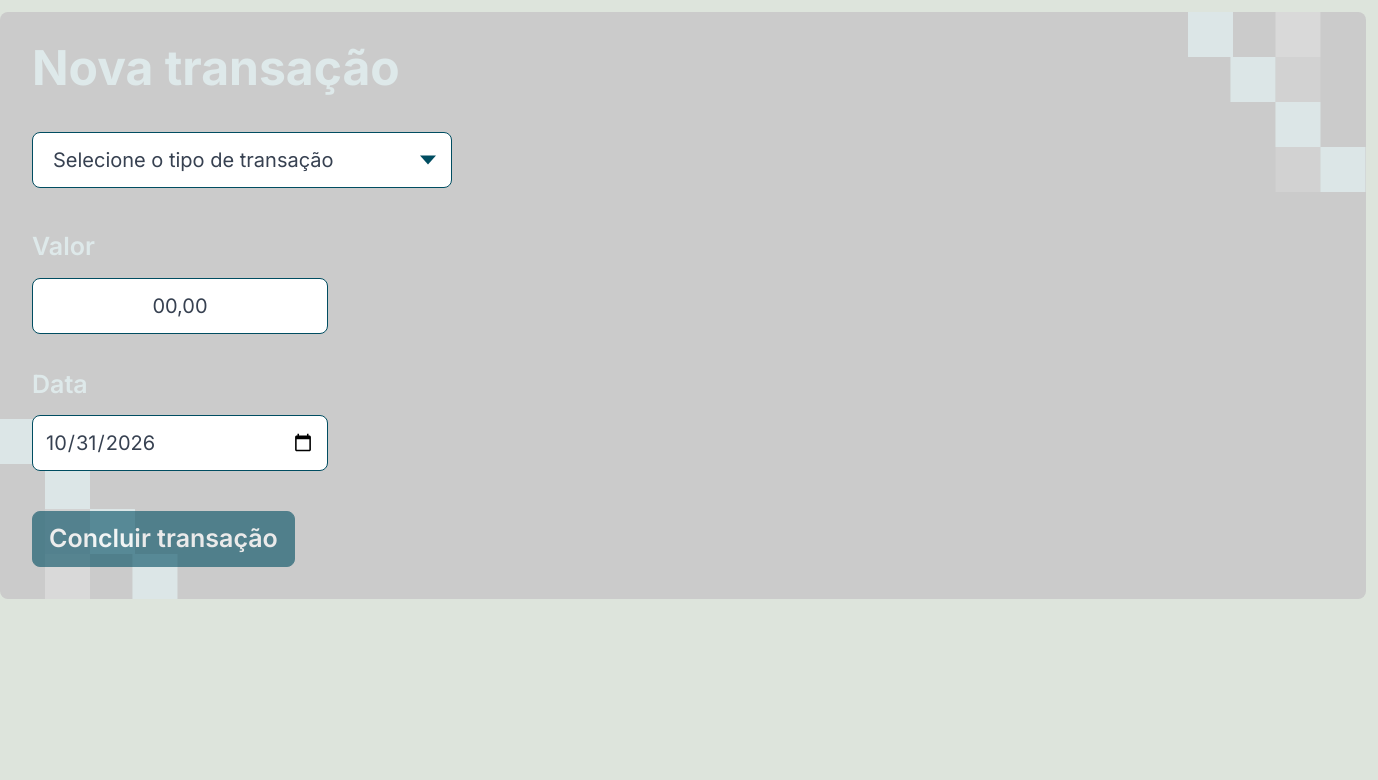
NewTransactionPanel › habilita botao somente quando tipo e valor sao validos
Replace the text in the field labelled "Valor" with "0" at (180, 306), box [32,278,328,334]
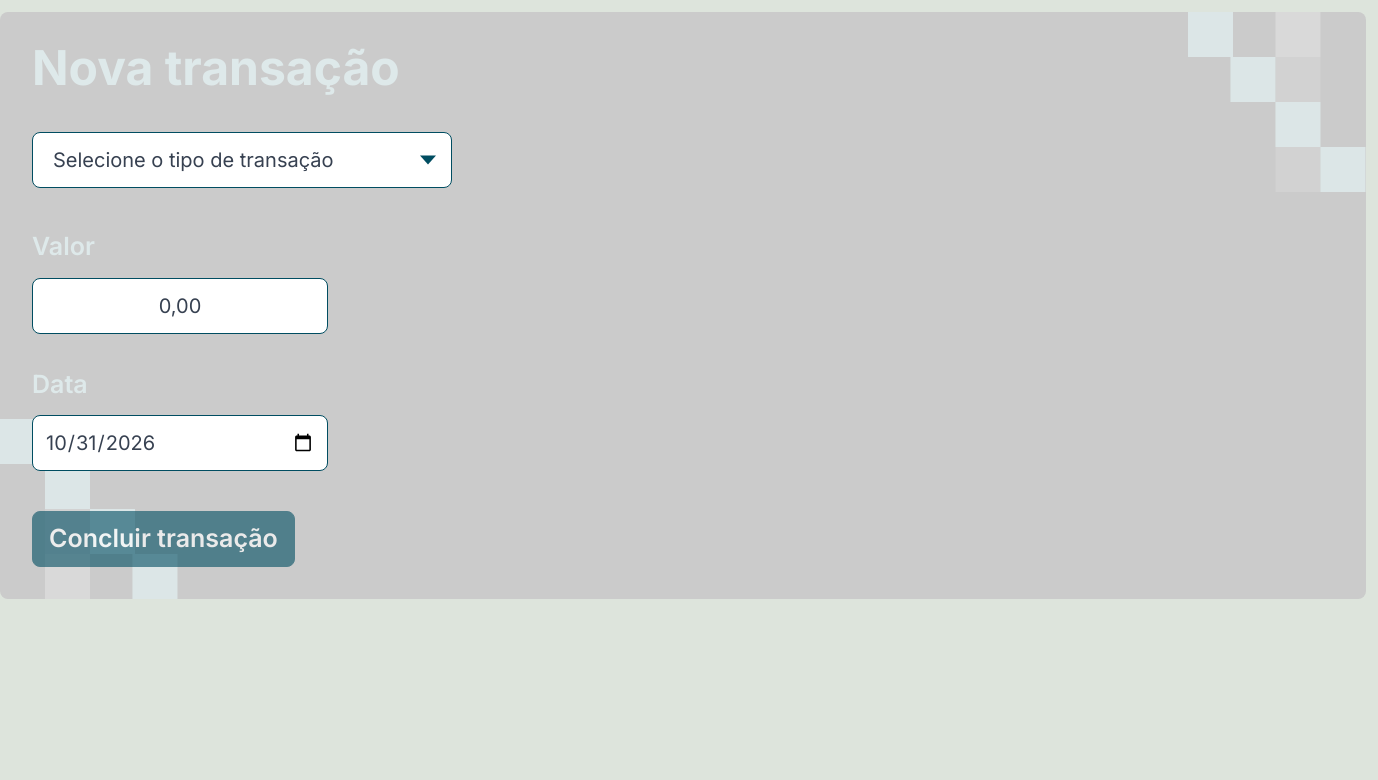
Expected: the button "Concluir transação" is disabled, [32,511,295,567]
Select "Depósito" in the dropdown named "Tipo de transação" at (242, 160), box [32,132,452,188]
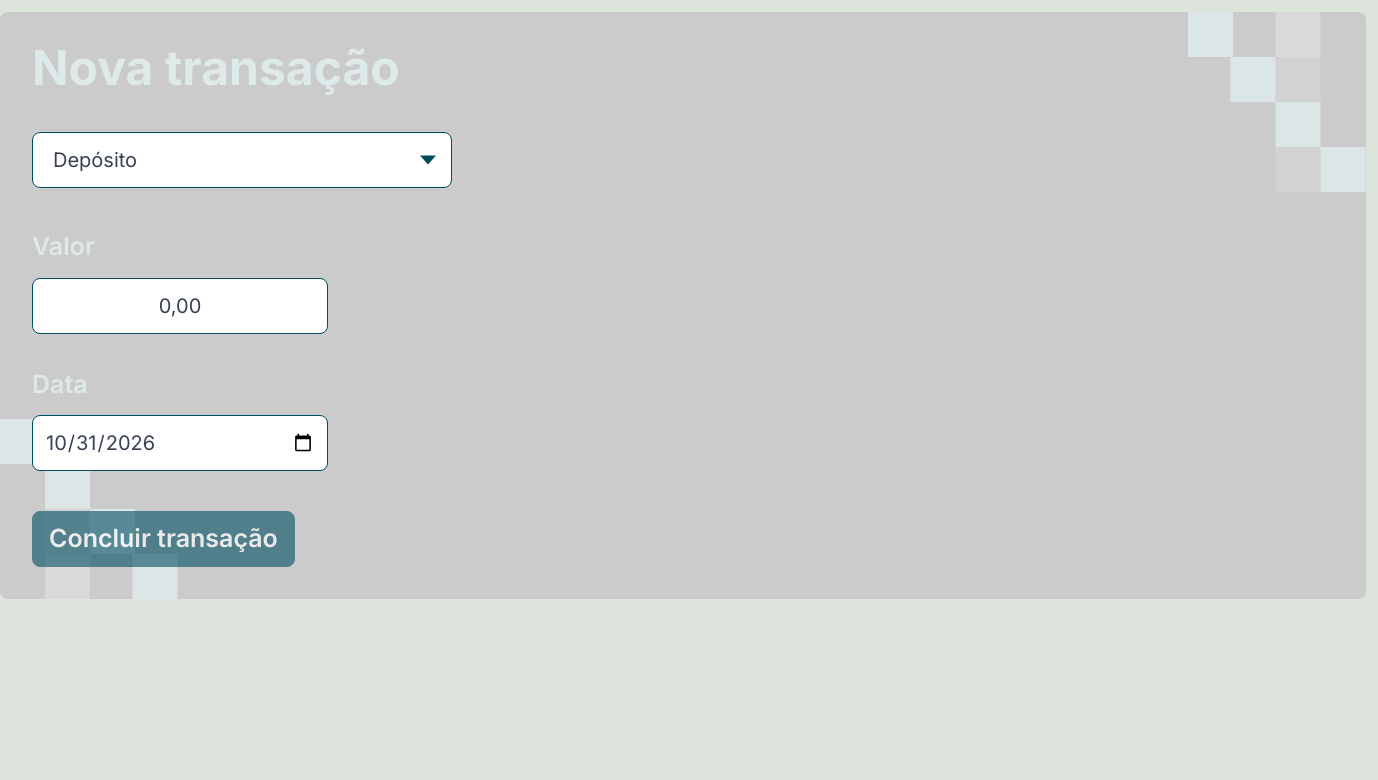
Expected: the button "Concluir transação" is disabled, [32,511,295,567]
Replace the text in the field labelled "Valor" with "1" at (180, 306), box [32,278,328,334]
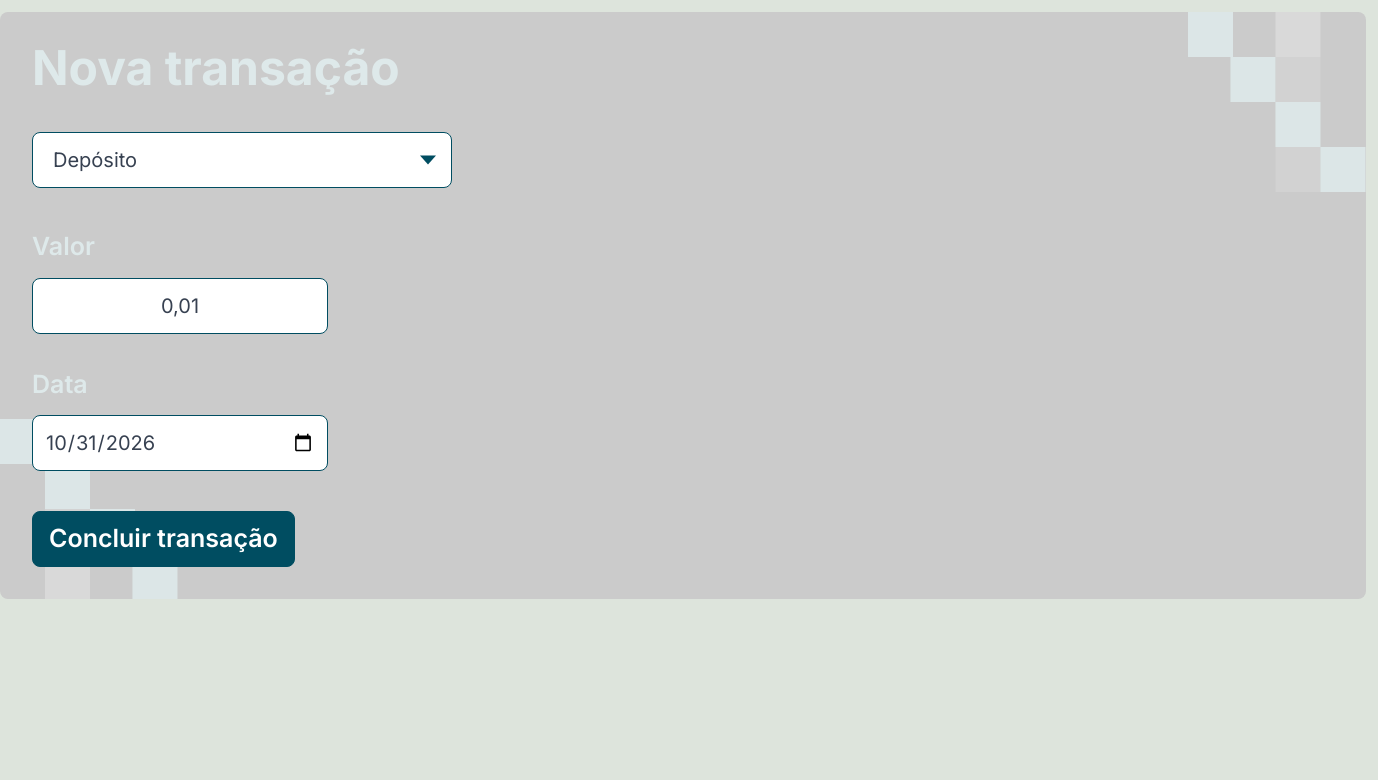
Expected: the button "Concluir transação" is enabled, [32,511,295,567]
